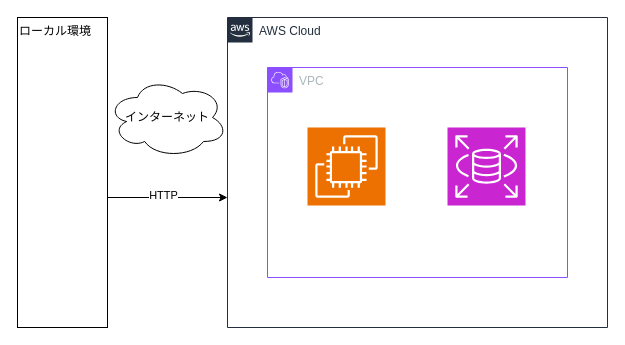
This 625x345 diagram has some shape labels left out. The shapes that lost their labels are listed below. From the top down, each one's centre as x and y in pixels, then its label:
At (x=346, y=166): "EC2 ( Linux/ Apache/PHP)".
At (x=486, y=166): "RDS (MySQL 8.0.43)".
